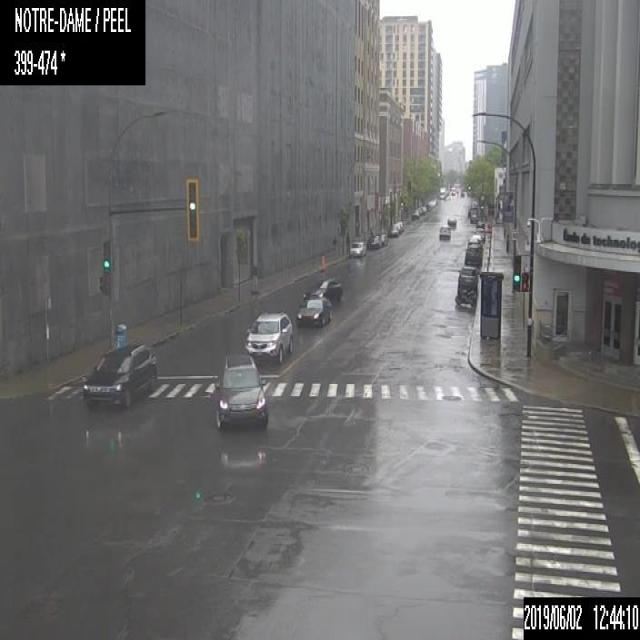construction: (251, 264, 259, 292), (318, 255, 325, 273)
vehicle: (82, 339, 160, 408), (212, 351, 268, 428), (245, 313, 293, 366), (296, 297, 332, 328), (302, 277, 342, 302), (457, 265, 478, 289), (454, 287, 476, 307), (464, 247, 482, 265), (348, 241, 366, 256), (467, 233, 482, 249), (438, 223, 450, 240), (366, 234, 380, 248), (376, 232, 387, 245), (474, 227, 484, 240), (389, 224, 399, 236), (446, 215, 456, 227), (395, 220, 404, 231), (392, 222, 400, 234), (412, 210, 419, 218)
